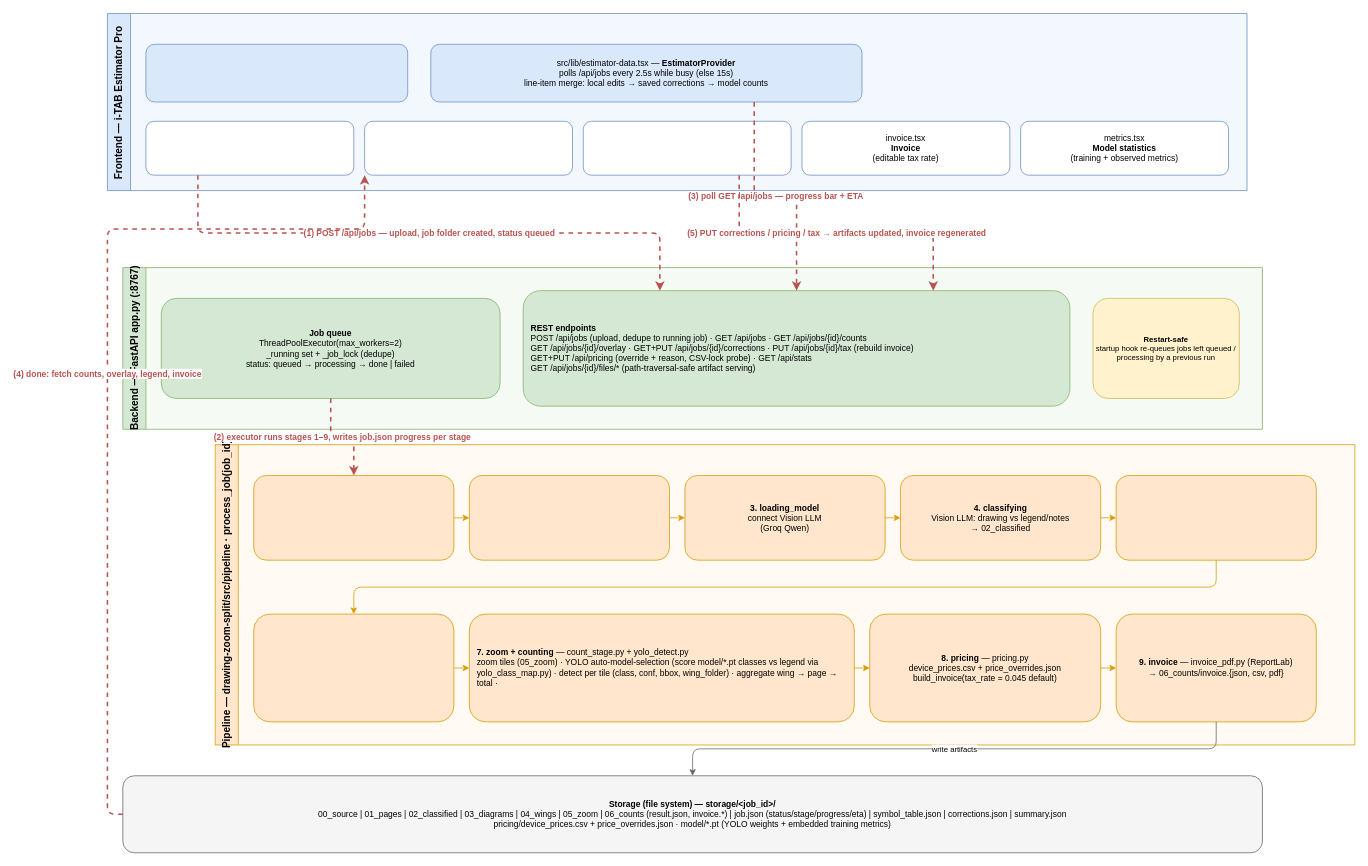
This 1368x866 diagram has some shape labels left out. Here are the shapes that lost their labels. From the top down, the centre of each, then its label:
At point (276, 73): "src/lib/api.ts Typed API client — API_BASE=/api (Vite proxy → backend :8767)".
At point (249, 148): "index.tsx Upload (single + batch ≤10), recent uploads, invoice download".
At point (468, 148): "report.tsx Report — counts, confidence, detection overlay, legend".
At point (687, 148): "pricing.tsx Pricing editor (override + reason)".
At point (353, 517): "1. extracting extraction/ → symbol_table.json (legend rows)".
At point (569, 517): "2. rendering page_render.py (PyMuPDF, 200 DPI) → 01_pages/*.png".
At point (1215, 517): "5. drawing_crop crop drawing region → 03_diagrams".
At point (353, 667): "6. wing_map + wing_crop Vision LLM wing mapping → 04_wings/*.png".
